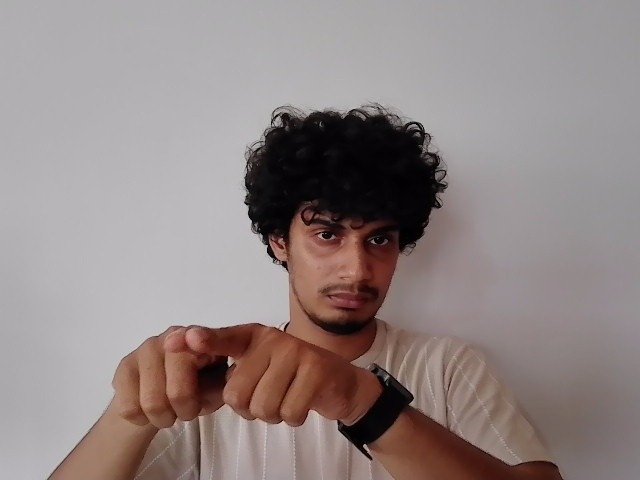same: (109, 321, 360, 432)
